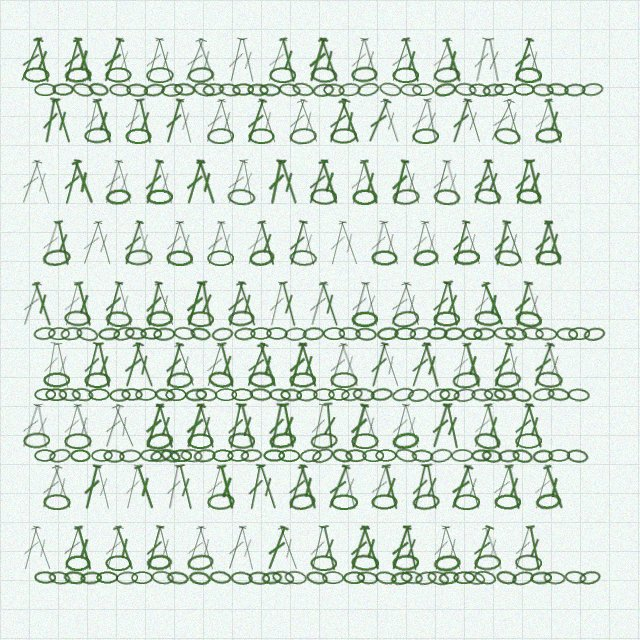chain: (493, 126, 522, 146), (391, 309, 420, 329), (514, 309, 543, 329), (145, 431, 174, 451), (473, 431, 502, 451), (42, 248, 71, 267), (268, 431, 297, 450), (391, 431, 420, 450), (288, 492, 317, 511), (186, 553, 215, 572), (474, 187, 502, 206), (248, 248, 276, 267), (412, 248, 440, 267), (207, 370, 235, 389), (494, 370, 522, 389), (227, 188, 256, 206), (452, 371, 481, 389), (535, 492, 562, 511), (64, 66, 92, 84), (187, 66, 215, 84), (310, 66, 338, 84), (433, 66, 461, 84), (289, 127, 317, 145), (392, 188, 420, 206), (433, 188, 461, 206), (289, 249, 317, 267), (494, 249, 522, 267), (105, 310, 133, 328), (166, 371, 194, 389), (310, 432, 338, 450), (412, 493, 440, 511), (433, 554, 461, 572), (105, 188, 132, 206), (125, 249, 153, 266), (535, 371, 563, 388), (207, 493, 235, 510), (351, 554, 379, 571), (310, 446, 335, 465), (351, 66, 378, 83), (84, 127, 111, 144), (535, 127, 562, 144), (310, 188, 337, 205), (453, 249, 480, 266), (64, 310, 91, 327), (146, 310, 173, 327), (228, 310, 255, 327), (474, 310, 501, 327), (248, 371, 275, 388), (23, 432, 50, 449), (228, 432, 255, 449), (146, 554, 173, 571), (392, 554, 419, 571), (474, 554, 501, 571), (515, 554, 542, 571), (146, 67, 174, 83), (330, 372, 358, 388), (64, 433, 92, 449), (351, 433, 379, 449), (43, 494, 71, 510), (330, 494, 358, 510), (516, 188, 542, 205), (23, 67, 50, 83), (105, 67, 132, 83), (269, 67, 296, 83), (392, 67, 419, 83), (515, 67, 542, 83), (71, 81, 95, 99), (125, 128, 152, 144), (207, 128, 234, 144), (248, 128, 275, 144), (330, 128, 357, 144), (412, 128, 439, 144), (146, 189, 173, 205), (166, 250, 193, 266), (207, 250, 234, 266), (371, 250, 398, 266), (535, 250, 562, 266), (187, 311, 214, 327), (351, 311, 378, 327), (433, 311, 460, 327), (75, 325, 99, 343), (43, 372, 70, 388), (84, 372, 111, 388), (289, 372, 316, 388), (187, 433, 214, 449), (515, 433, 542, 449), (371, 494, 398, 510), (453, 494, 480, 510), (494, 494, 521, 510), (105, 555, 132, 571), (310, 555, 337, 571), (426, 569, 450, 587), (462, 569, 486, 587), (511, 569, 535, 587), (352, 189, 378, 205), (65, 555, 91, 571), (510, 386, 533, 404), (159, 447, 182, 465), (511, 447, 534, 465), (192, 81, 216, 98), (291, 81, 315, 98), (356, 81, 380, 98), (378, 81, 402, 98), (433, 81, 457, 98), (112, 325, 136, 342), (504, 325, 528, 342), (340, 386, 364, 403), (391, 386, 415, 403), (48, 447, 72, 464), (149, 447, 173, 464), (394, 447, 418, 464), (429, 447, 453, 464), (271, 569, 295, 586), (473, 569, 497, 586), (578, 569, 602, 586), (87, 81, 110, 98), (331, 447, 354, 464), (495, 569, 518, 586), (305, 570, 329, 586), (374, 570, 398, 586), (414, 570, 438, 586), (143, 82, 166, 98), (218, 82, 241, 98), (278, 82, 301, 98), (312, 82, 335, 98), (468, 82, 491, 98), (482, 82, 505, 98), (189, 326, 212, 342), (211, 326, 234, 342), (583, 326, 606, 342), (407, 387, 430, 403), (428, 387, 451, 403), (453, 387, 476, 403), (566, 448, 589, 464), (48, 570, 71, 586), (166, 570, 189, 586), (188, 570, 211, 586), (356, 570, 379, 586), (390, 570, 413, 586), (154, 387, 176, 403), (481, 448, 503, 464), (173, 82, 196, 97), (202, 82, 225, 97), (338, 82, 361, 97), (454, 82, 477, 97), (546, 82, 569, 97), (581, 82, 604, 97), (33, 326, 56, 341), (60, 326, 83, 341), (124, 326, 147, 341), (173, 326, 196, 341), (302, 326, 325, 341), (338, 326, 361, 341), (376, 326, 399, 341), (409, 326, 432, 341), (493, 326, 516, 341), (521, 326, 544, 341), (58, 387, 81, 402), (71, 387, 94, 402), (195, 387, 218, 402), (249, 387, 272, 402), (352, 387, 375, 402), (370, 387, 393, 402), (483, 387, 506, 402), (493, 387, 516, 402), (532, 387, 555, 402), (547, 387, 570, 402), (180, 448, 203, 463), (193, 448, 216, 463), (240, 448, 263, 463), (299, 448, 322, 463), (63, 570, 86, 585), (151, 570, 174, 585), (209, 570, 232, 585), (284, 570, 307, 585), (400, 570, 423, 585), (564, 570, 587, 585), (443, 326, 465, 341), (438, 570, 460, 585), (284, 327, 307, 341), (567, 388, 590, 402), (411, 449, 434, 463), (230, 571, 253, 585), (543, 571, 566, 585), (109, 83, 131, 97), (126, 83, 148, 97), (161, 83, 183, 97), (247, 83, 269, 97), (259, 83, 281, 97), (323, 83, 345, 97), (400, 83, 422, 97), (532, 83, 554, 97), (564, 83, 586, 97), (98, 327, 120, 341), (153, 327, 175, 341), (234, 327, 256, 341), (355, 327, 377, 341), (473, 327, 495, 341), (535, 327, 557, 341), (556, 327, 578, 341), (109, 388, 131, 402), (185, 388, 207, 402), (269, 388, 291, 402), (280, 388, 302, 402), (296, 388, 318, 402), (471, 388, 493, 402), (103, 449, 125, 463), (119, 449, 141, 463), (498, 449, 520, 463), (532, 449, 554, 463), (80, 571, 102, 585), (116, 571, 138, 585), (248, 571, 270, 585), (261, 571, 283, 585), (530, 571, 552, 585), (34, 83, 56, 96), (52, 83, 74, 96), (232, 83, 254, 96), (412, 83, 434, 96), (494, 83, 516, 96), (513, 83, 535, 96), (48, 327, 70, 340), (140, 327, 162, 340), (250, 327, 272, 340), (266, 327, 288, 340), (323, 327, 345, 340), (394, 327, 416, 340), (568, 327, 590, 340), (34, 388, 56, 401), (45, 388, 67, 401), (88, 388, 110, 401), (121, 388, 143, 401), (135, 388, 157, 401), (165, 388, 187, 401), (215, 388, 237, 401), (231, 388, 253, 401), (313, 388, 335, 401), (328, 388, 350, 401), (34, 449, 56, 462), (91, 449, 113, 462), (140, 449, 162, 462), (170, 449, 192, 462), (212, 449, 234, 462), (227, 449, 249, 462), (263, 449, 285, 462), (278, 449, 300, 462), (345, 449, 367, 462), (362, 449, 384, 462), (375, 449, 397, 462), (451, 449, 473, 462), (548, 449, 570, 462), (34, 571, 56, 584), (96, 571, 118, 584), (131, 571, 153, 584), (322, 571, 344, 584), (343, 571, 365, 584), (453, 571, 475, 584), (427, 327, 448, 340), (462, 327, 483, 340), (439, 388, 460, 401), (70, 449, 91, 462), (471, 449, 492, 462)
double: (485, 97, 518, 144), (15, 36, 46, 84), (179, 36, 210, 84), (293, 97, 324, 145), (363, 97, 394, 145), (478, 280, 509, 328), (109, 402, 140, 450), (445, 463, 476, 511), (478, 524, 509, 572), (426, 36, 456, 84), (323, 97, 353, 145), (335, 97, 365, 145), (69, 158, 99, 206), (499, 219, 529, 267), (171, 341, 201, 389), (241, 341, 271, 389), (335, 341, 365, 389), (528, 341, 558, 389), (36, 463, 66, 511), (323, 463, 353, 511), (274, 524, 304, 572), (467, 524, 497, 572), (98, 36, 127, 84), (192, 36, 221, 84), (262, 36, 291, 84), (315, 36, 344, 84), (385, 36, 414, 84), (508, 36, 537, 84), (200, 97, 229, 145), (241, 97, 270, 145), (405, 97, 434, 145), (16, 158, 45, 206), (303, 158, 332, 206), (315, 158, 344, 206), (36, 219, 65, 267), (77, 219, 106, 267), (335, 219, 364, 267), (458, 219, 487, 267), (151, 280, 180, 328), (233, 280, 262, 328), (385, 280, 414, 328), (130, 341, 159, 389), (16, 402, 45, 450), (48, 463, 77, 511), (487, 463, 516, 511), (540, 463, 569, 511), (28, 524, 57, 572), (57, 524, 86, 572), (110, 524, 139, 572), (262, 524, 291, 572), (70, 36, 98, 84), (439, 36, 467, 84), (254, 97, 282, 145), (283, 97, 311, 145), (377, 97, 405, 145), (447, 97, 475, 145), (459, 97, 487, 145), (193, 158, 221, 206), (222, 158, 250, 206), (275, 158, 303, 206), (398, 158, 426, 206), (468, 158, 496, 206), (119, 219, 147, 267), (172, 219, 200, 267), (242, 219, 270, 267), (377, 219, 405, 267), (418, 219, 446, 267), (17, 280, 45, 328), (29, 280, 57, 328), (181, 280, 209, 328), (222, 280, 250, 328), (304, 280, 332, 328), (316, 280, 344, 328), (398, 280, 426, 328), (119, 341, 147, 389), (254, 341, 282, 389), (295, 341, 323, 389), (377, 341, 405, 389), (406, 341, 434, 389), (488, 341, 516, 389), (541, 341, 569, 389), (70, 402, 98, 450), (99, 402, 127, 450), (152, 402, 180, 450), (181, 402, 209, 450), (357, 402, 385, 450), (468, 402, 496, 450), (509, 402, 537, 450), (131, 463, 159, 511), (254, 463, 282, 511), (283, 463, 311, 511), (365, 463, 393, 511), (99, 524, 127, 572), (181, 524, 209, 572), (222, 524, 250, 572), (345, 524, 373, 572), (357, 524, 385, 572), (386, 524, 414, 572), (439, 524, 467, 572), (140, 36, 167, 84), (152, 36, 179, 84), (304, 36, 331, 84), (357, 36, 384, 84), (398, 36, 425, 84), (521, 36, 548, 84), (49, 97, 76, 145), (90, 97, 117, 145), (160, 97, 187, 145), (500, 97, 527, 145), (529, 97, 556, 145), (541, 97, 568, 145), (29, 158, 56, 206), (99, 158, 126, 206), (111, 158, 138, 206), (140, 158, 167, 206), (152, 158, 179, 206), (181, 158, 208, 206), (345, 158, 372, 206), (357, 158, 384, 206), (427, 158, 454, 206), (480, 158, 507, 206), (90, 219, 117, 267), (131, 219, 158, 267), (254, 219, 281, 267), (541, 219, 568, 267), (427, 280, 454, 328), (509, 280, 536, 328), (521, 280, 548, 328), (160, 341, 187, 389), (201, 341, 228, 389), (324, 341, 351, 389), (58, 402, 85, 450), (140, 402, 167, 450), (193, 402, 220, 450), (427, 402, 454, 450), (521, 402, 548, 450), (201, 463, 228, 511), (295, 463, 322, 511), (529, 463, 556, 511), (193, 524, 220, 572), (509, 524, 536, 572), (59, 36, 85, 84), (214, 97, 240, 145), (59, 158, 85, 206), (440, 158, 466, 206), (522, 158, 548, 206), (161, 219, 187, 267), (202, 219, 228, 267), (214, 219, 240, 267), (284, 219, 310, 267), (530, 219, 556, 267), (59, 280, 85, 328), (71, 280, 97, 328), (100, 280, 126, 328), (112, 280, 138, 328), (276, 280, 302, 328), (346, 280, 372, 328), (358, 280, 384, 328), (214, 341, 240, 389), (284, 341, 310, 389), (366, 341, 392, 389), (419, 341, 445, 389), (460, 341, 486, 389), (346, 402, 372, 450), (387, 402, 413, 450), (399, 402, 425, 450), (214, 463, 240, 511), (378, 463, 404, 511), (460, 463, 486, 511), (18, 524, 44, 572), (71, 524, 97, 572), (141, 524, 167, 572), (30, 36, 55, 84), (112, 36, 137, 84), (276, 36, 301, 84), (346, 36, 371, 84), (469, 36, 494, 84), (120, 97, 145, 145), (173, 97, 198, 145), (387, 158, 412, 206), (510, 158, 535, 206), (296, 219, 321, 267), (325, 219, 350, 267), (366, 219, 391, 267), (407, 219, 432, 267), (448, 219, 473, 267), (264, 280, 289, 328), (79, 341, 104, 389), (223, 402, 248, 450), (235, 402, 260, 450), (440, 402, 465, 450), (481, 402, 506, 450), (79, 463, 104, 511), (91, 463, 116, 511), (120, 463, 145, 511), (173, 463, 198, 511), (153, 524, 178, 572), (235, 524, 260, 572), (305, 524, 330, 572), (317, 524, 342, 572), (224, 36, 248, 84), (236, 36, 260, 84), (482, 36, 506, 84), (80, 97, 104, 145), (133, 97, 157, 145), (51, 219, 75, 267), (490, 219, 514, 267), (142, 280, 166, 328), (470, 280, 494, 328), (51, 341, 75, 389), (92, 341, 116, 389), (449, 341, 473, 389), (502, 341, 526, 389), (306, 402, 330, 450), (338, 463, 362, 511), (408, 463, 432, 511), (502, 463, 526, 511), (429, 524, 453, 572), (265, 158, 288, 206), (31, 402, 54, 450), (265, 402, 288, 450), (162, 463, 185, 511), (244, 463, 267, 511), (400, 524, 423, 572), (523, 524, 546, 572), (39, 97, 62, 144), (420, 97, 443, 144), (441, 280, 464, 327), (277, 402, 300, 449), (237, 158, 259, 205), (196, 280, 218, 327), (40, 341, 62, 388), (421, 463, 443, 510), (320, 402, 339, 449)
